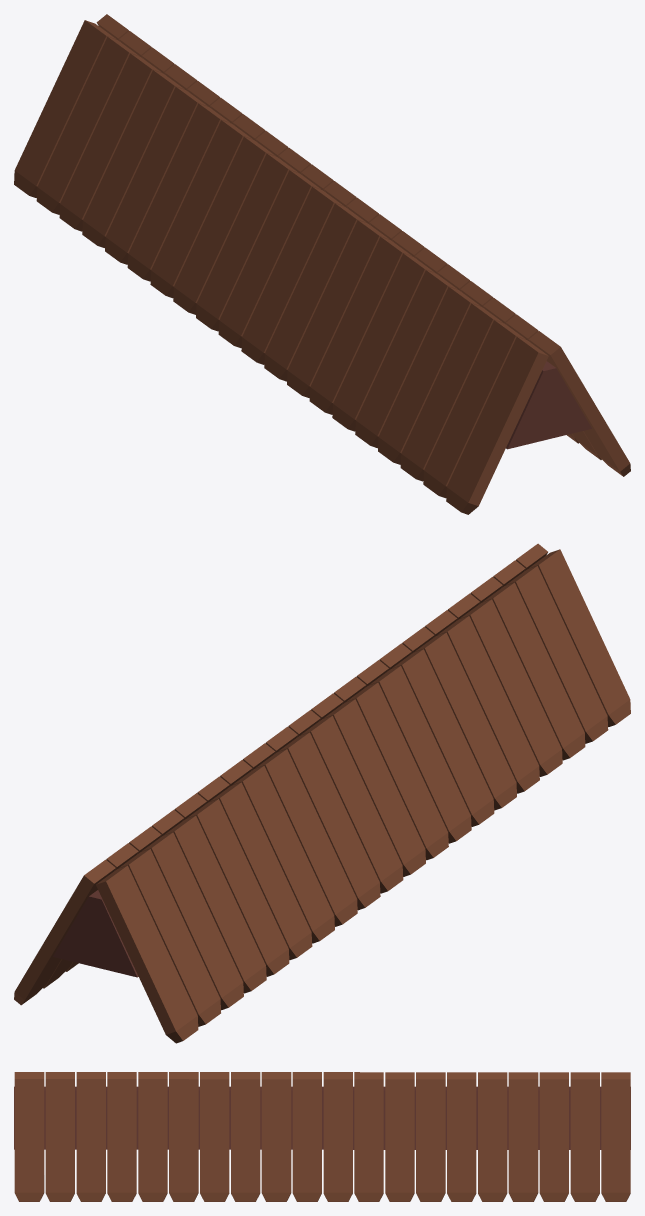
The model's file is roof_for_gate.fbx.
The picture shows the model from 3 angles, top to bottom: view 1: azimuth 30°, elevation 25°; view 2: azimuth 150°, elevation 25°; view 3: azimuth 270°, elevation 25°; orthographic projection. The views are drawn at different scales.
Visible parts, largest first — view 1: roof; view 2: roof; view 3: roof.
Boxes of the visible parts, bbox=[...] form: roof: bbox=[14, 14, 630, 514]; roof: bbox=[14, 543, 630, 1043]; roof: bbox=[14, 1072, 630, 1201].
Bounding box in the file's own units: 96.56 × 80.89 × 447.
